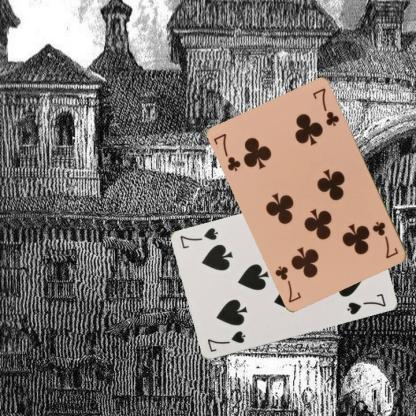7c: (211, 131, 242, 173), (370, 219, 400, 260)
7s: (204, 328, 247, 354)
